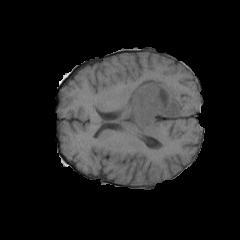glioma: (94, 78, 181, 147)
